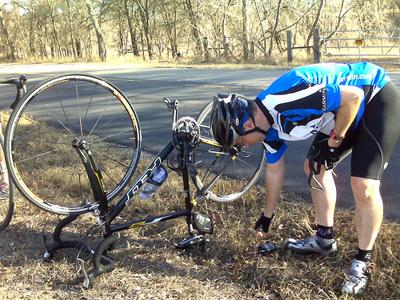person: (208, 61, 400, 297)
